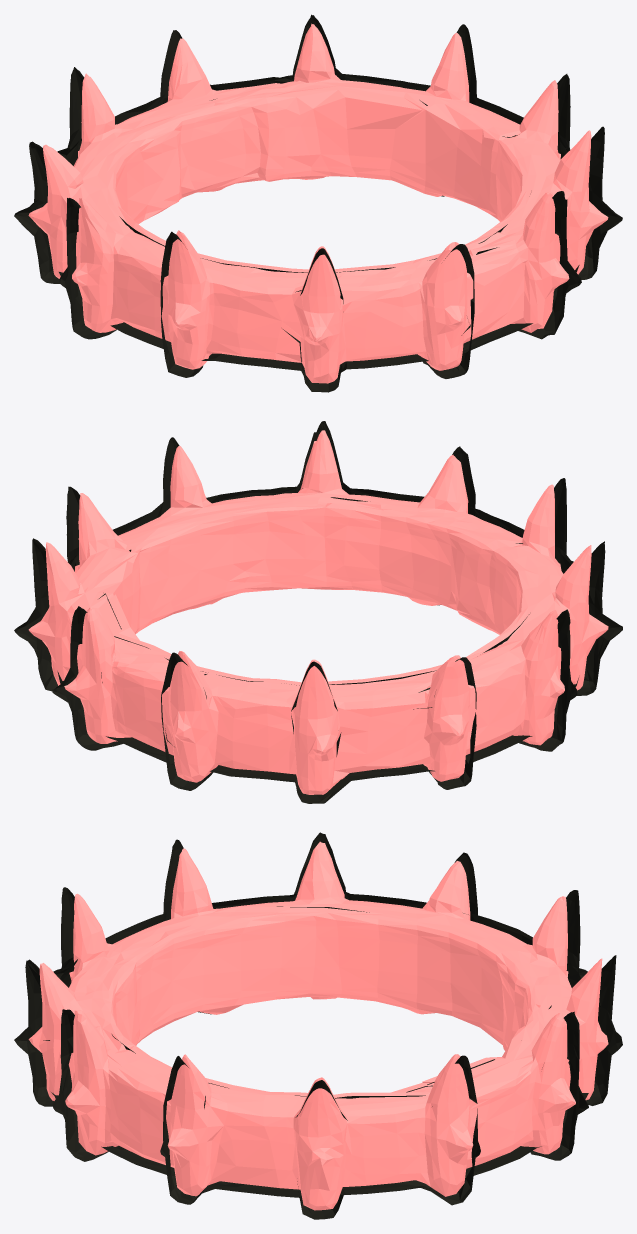
File: df_v2_outpost_marker_a.glb
3 renders of one model, top to bottom at view 1: azimuth 30°, elevation 25°; view 2: azimuth 150°, elevation 25°; view 3: azimuth 270°, elevation 25°, orthographic. The views are drawn at different scales.
Visible parts, largest first — view 1: outpost_marker_mesh_01, outpost_marker_mesh_01_ink_outline; view 2: outpost_marker_mesh_01, outpost_marker_mesh_01_ink_outline; view 3: outpost_marker_mesh_01, outpost_marker_mesh_01_ink_outline.
Part boxes in pixels (x1,y1,x2,y2): outpost_marker_mesh_01: (28,23,608,383); outpost_marker_mesh_01_ink_outline: (14,14,622,392); outpost_marker_mesh_01: (28,430,608,794); outpost_marker_mesh_01_ink_outline: (14,421,622,803); outpost_marker_mesh_01: (28,841,608,1210); outpost_marker_mesh_01_ink_outline: (14,832,622,1219).
Size of the model in its own units: 2.52 by 0.7057 by 2.51.
